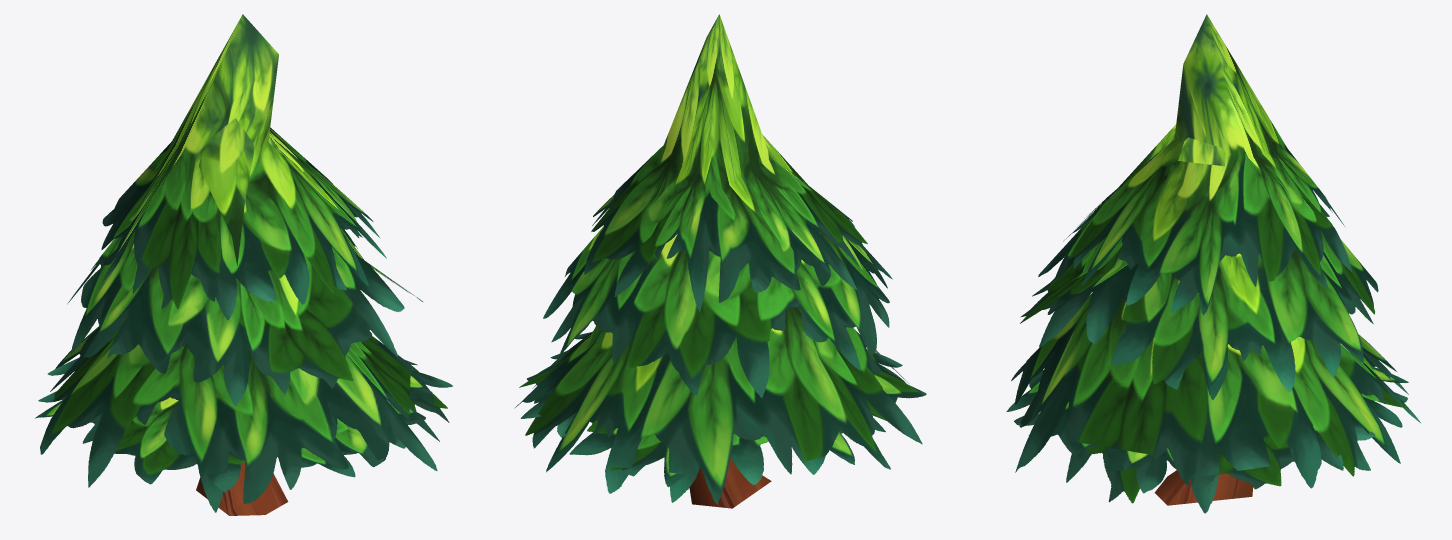
Rendered from Pino_01.fbx.
3 renders of one model, left to right at view 1: azimuth 30°, elevation 25°; view 2: azimuth 150°, elevation 25°; view 3: azimuth 270°, elevation 25°, orthographic.
Visible parts, largest first — view 1: Pino_01; view 2: Pino_01; view 3: Pino_01.
Part boxes in pixels (<box>): Pino_01: <box>35,14,452,515</box>; Pino_01: <box>514,14,926,508</box>; Pino_01: <box>1006,14,1420,513</box>.
Bounding box in the file's own units: 489 × 568 × 489.
